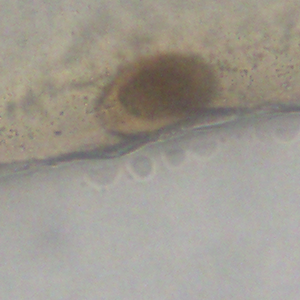Fasciola_hepatica_egg: (93, 48, 220, 142)
